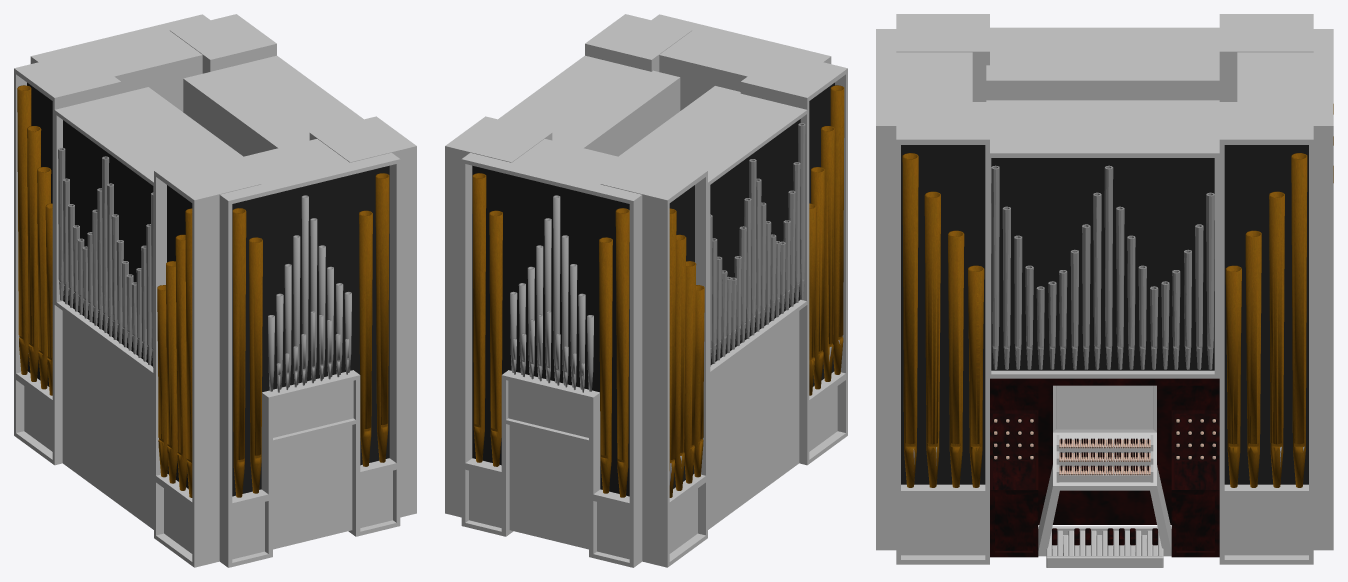
The picture shows the model from 3 angles, left to right: view 1: azimuth 30°, elevation 25°; view 2: azimuth 150°, elevation 25°; view 3: azimuth 270°, elevation 25°; orthographic projection. The views are drawn at different scales.
Parts seen in each view (by area): view 1: Cube.001_4, pipes_1; view 2: Cube.001_4, pipes_1; view 3: Cube.001_4, pipes_1, leg_keys_2, keyes_0.
Boxes of the visible parts, left/top/right/bottom form: Cube.001_4: left=14, top=14, right=416, bottom=567; pipes_1: left=17, top=85, right=389, bottom=497; Cube.001_4: left=445, top=14, right=847, bottom=567; pipes_1: left=472, top=85, right=844, bottom=497; Cube.001_4: left=876, top=14, right=1333, bottom=564; pipes_1: left=902, top=104, right=1333, bottom=487; leg_keys_2: left=1046, top=526, right=1163, bottom=567; keyes_0: left=1059, top=438, right=1150, bottom=475.
Bounding box in the file's own units: 2.63 × 4 × 3.91.
